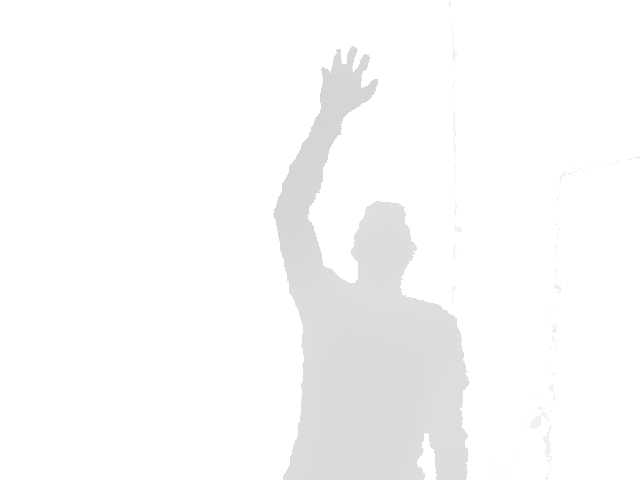hand: (319, 45, 379, 118)
head: (351, 201, 416, 302)
person: (271, 45, 471, 479)
